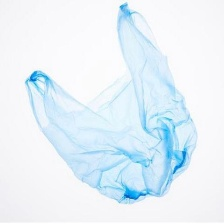plastic_bag: (19, 0, 205, 207)
